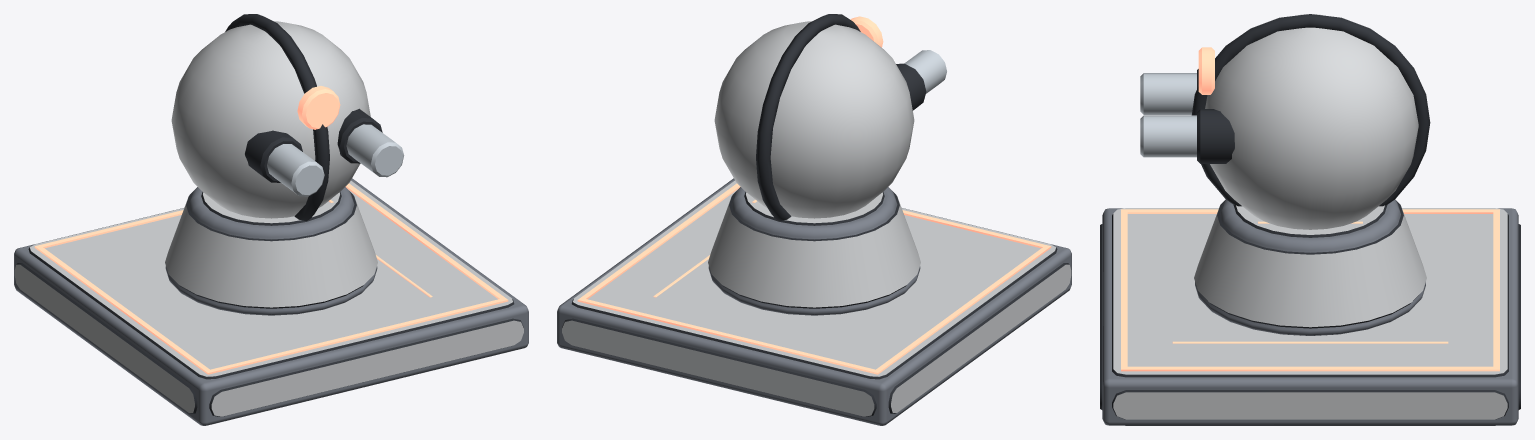
The model's file is R4X_PointDefense.fbx.
3 renders of one model, left to right at view 1: azimuth 30°, elevation 25°; view 2: azimuth 150°, elevation 25°; view 3: azimuth 270°, elevation 25°, orthographic. The views are drawn at different scales.
Visible parts, largest first — view 1: R4X_PointDefense_Body, R4X_PointDefense_Turret; view 2: R4X_PointDefense_Body, R4X_PointDefense_Turret; view 3: R4X_PointDefense_Body, R4X_PointDefense_Turret.
Part boxes in pixels (x1,y1,x2,y2): R4X_PointDefense_Body: (14,178,528,425); R4X_PointDefense_Turret: (171,14,404,221); R4X_PointDefense_Body: (557,178,1071,425); R4X_PointDefense_Turret: (714,14,946,221); R4X_PointDefense_Body: (1100,199,1520,425); R4X_PointDefense_Turret: (1140,14,1430,229).
Size of the model in its own units: 0.52 by 0.448 by 0.52.
